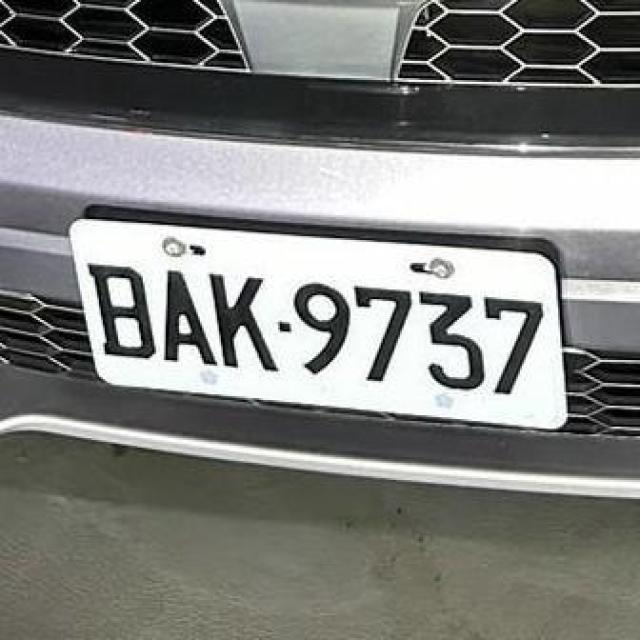W: (72, 209, 558, 442)
